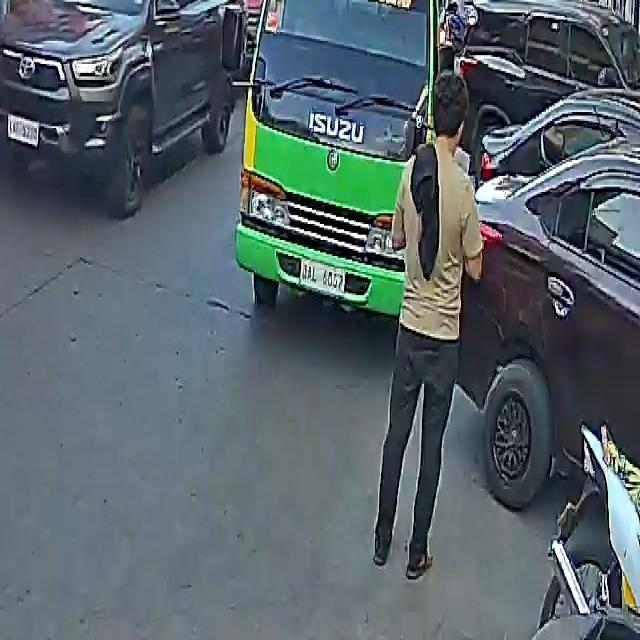car: (470, 121, 640, 512), (0, 0, 245, 213), (458, 0, 640, 192)
